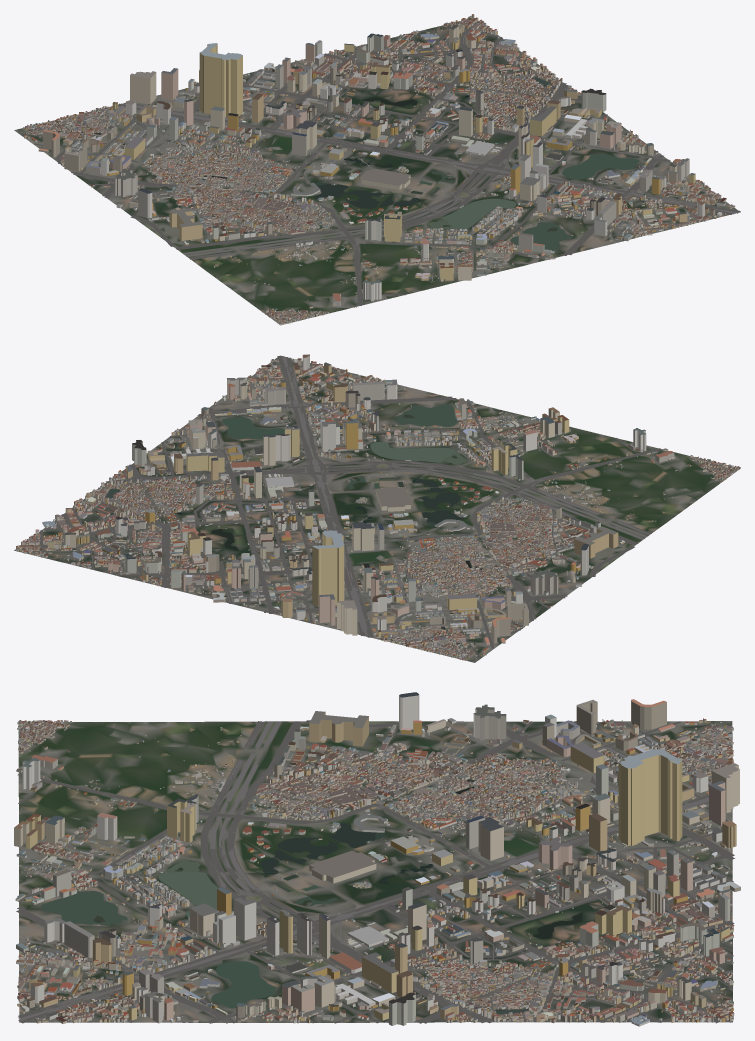
3 views of the same model, one above another, from view 1: azimuth 30°, elevation 25°; view 2: azimuth 150°, elevation 25°; view 3: azimuth 270°, elevation 25° (orthographic). The views are drawn at different scales.
Parts seen in each view (by area): view 1: buildings, ground, roads, water; view 2: buildings, ground, roads, water; view 3: buildings, ground, roads, water.
Boxes of the visible parts, <box> form: buildings: <box>20,14,735,324</box>; ground: <box>14,21,740,325</box>; roads: <box>34,21,740,305</box>; water: <box>147,67,685,266</box>; buildings: <box>16,354,740,660</box>; ground: <box>14,356,739,662</box>; roads: <box>14,355,661,648</box>; water: <box>87,375,503,624</box>; buildings: <box>14,692,740,1026</box>; ground: <box>18,721,732,1022</box>; roads: <box>16,720,734,1023</box>; water: <box>21,779,727,1014</box>.
Bounding box in the file's own units: 2859 × 340 × 2856.
